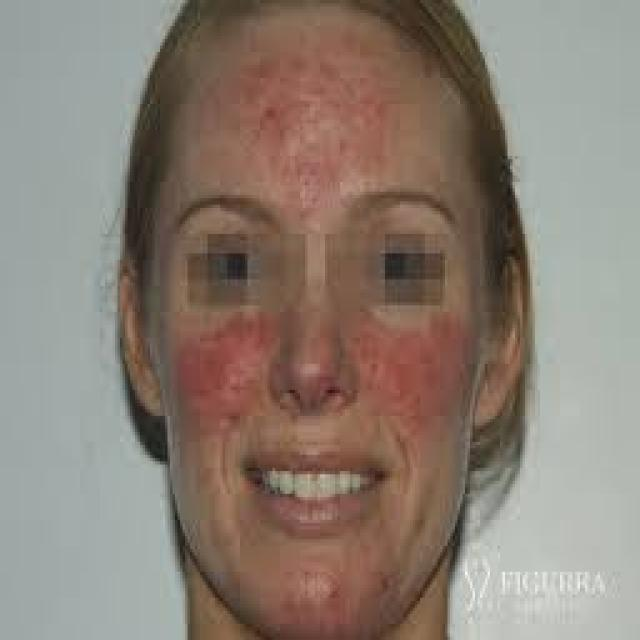Rosacea: (234, 30, 396, 197), (159, 309, 271, 454), (356, 300, 474, 431)
